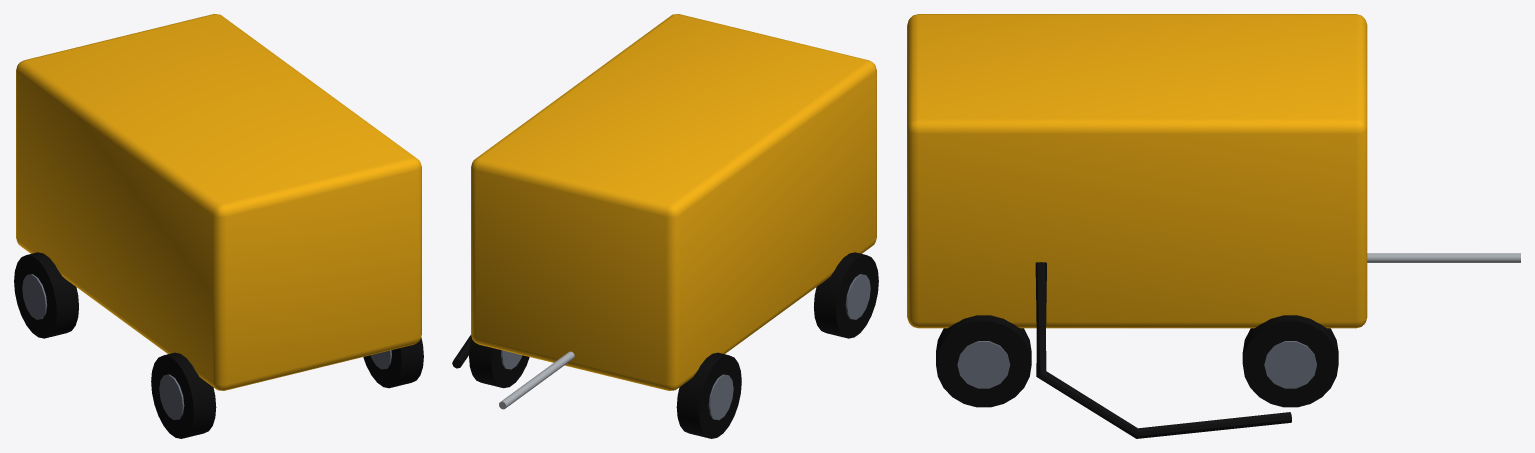
Rendered from airport.airside.gpu.glb.
The picture shows the model from 3 angles, left to right: view 1: azimuth 30°, elevation 25°; view 2: azimuth 150°, elevation 25°; view 3: azimuth 270°, elevation 25°; orthographic projection. The views are drawn at different scales.
Visible parts, largest first — view 1: main__plant_yellow, main__rubber, main__steel_painted; view 2: main__plant_yellow, main__rubber, main__steel_painted, main__steel_galvanised; view 3: main__plant_yellow, main__rubber, main__plastic_black, main__steel_painted, main__steel_galvanised.
Boxes of the visible parts, x1,y1,x2,y2 form: main__plant_yellow: [16, 14, 421, 390]; main__rubber: [14, 252, 423, 438]; main__steel_painted: [22, 274, 391, 419]; main__plant_yellow: [471, 14, 876, 390]; main__rubber: [469, 252, 878, 438]; main__steel_painted: [501, 274, 870, 419]; main__steel_galvanised: [499, 351, 574, 409]; main__plant_yellow: [907, 14, 1367, 328]; main__rubber: [936, 315, 1338, 407]; main__plastic_black: [1035, 262, 1291, 438]; main__steel_painted: [957, 341, 1316, 388]; main__steel_galvanised: [1367, 253, 1520, 262].
Bounding box in the file's own units: 2.01 × 1.6 × 3.2.
